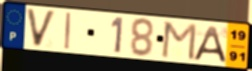1: (109, 16, 125, 55)
8: (129, 17, 156, 59)
A: (191, 25, 228, 64)
I: (64, 11, 73, 51)
M: (160, 20, 199, 62)
V: (25, 7, 58, 49)
